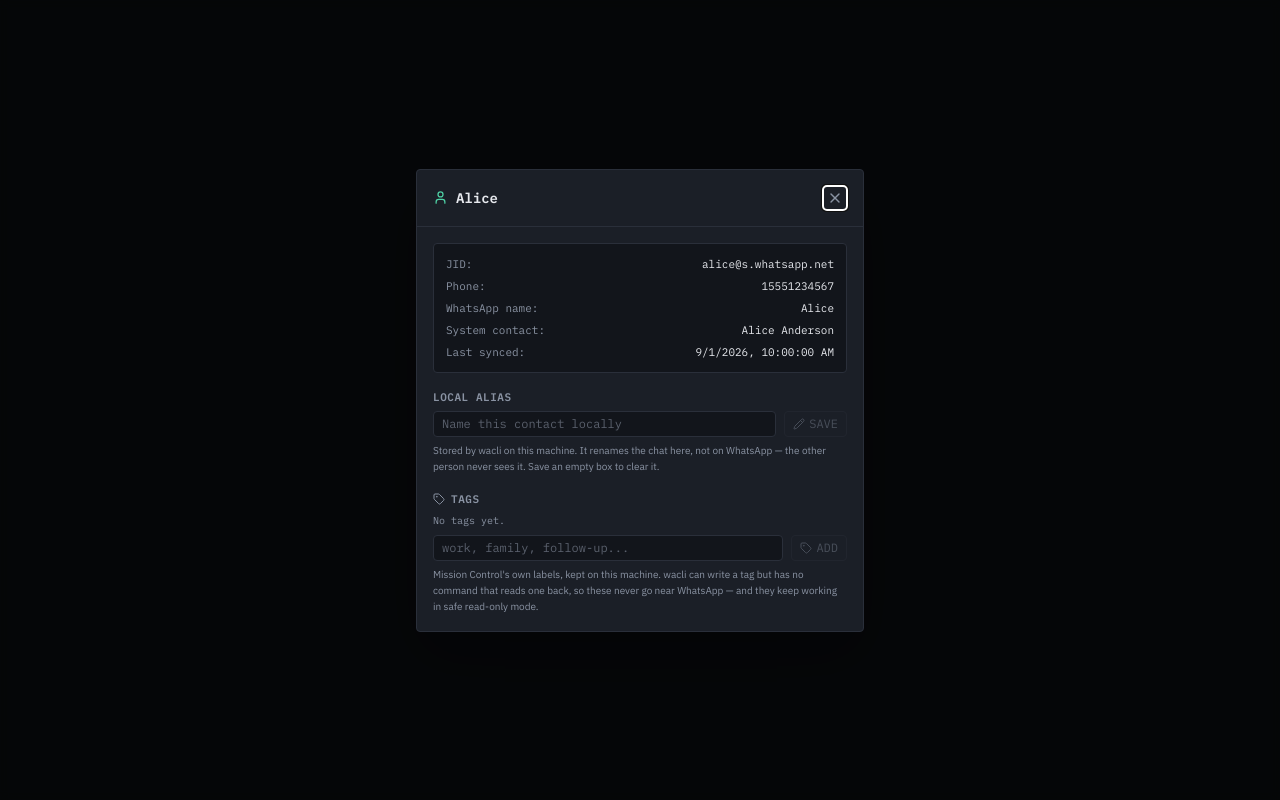
ChatInfoModal › tag autocomplete › offers the whole vocabulary the moment the box is focused
What coordinates should you click on to do the following:
click the dropdown named "Add tag"
I would click on:
 (608, 548)
Its box is [433,534,783,560].
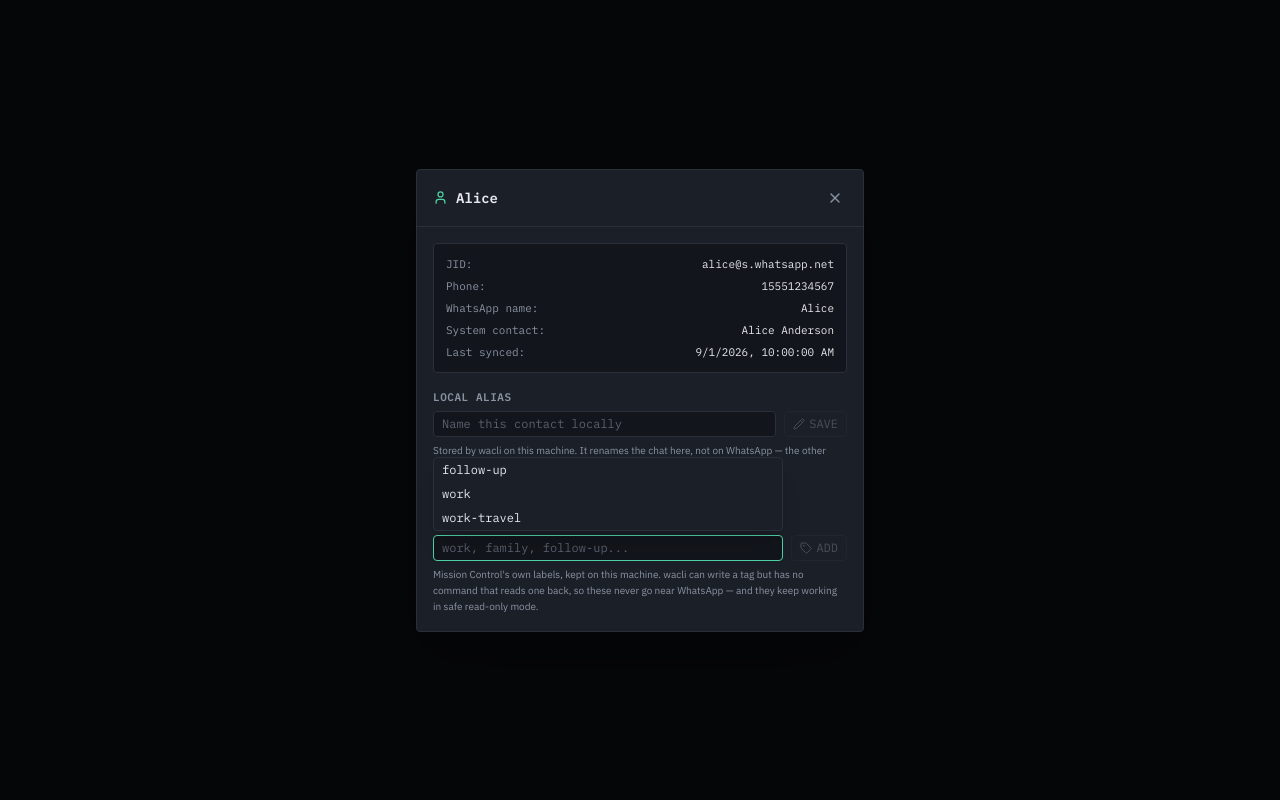
Check: the number of options is 3, box [442,462,507,476]; [442,486,471,500]; [442,510,521,524]
Check: the option "work-travel" is shown, box [442,510,521,524]
